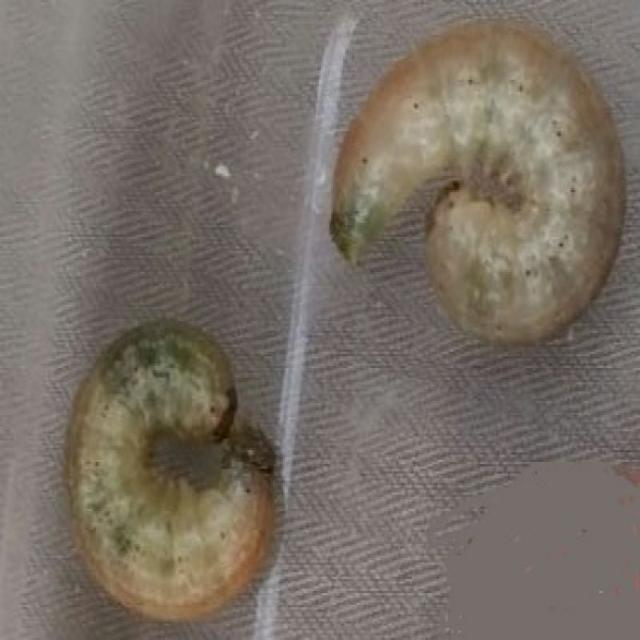worm: (329, 18, 627, 348), (64, 317, 278, 624)
